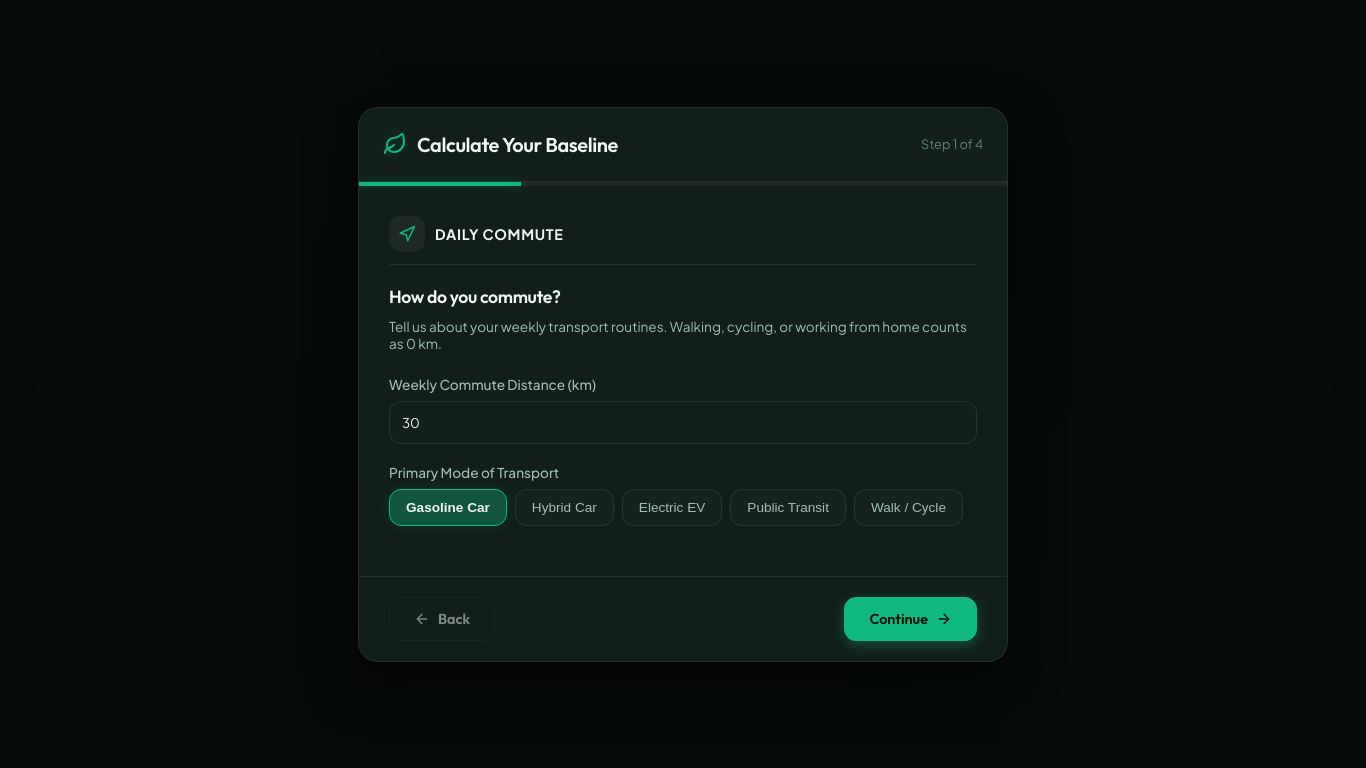
Test case: OnboardingWizard › navigates to step 2 when Continue is clicked
This screenshot has width=1366, height=768.
Click the button "Continue". click: [911, 618]
box: [844,596,977,640]
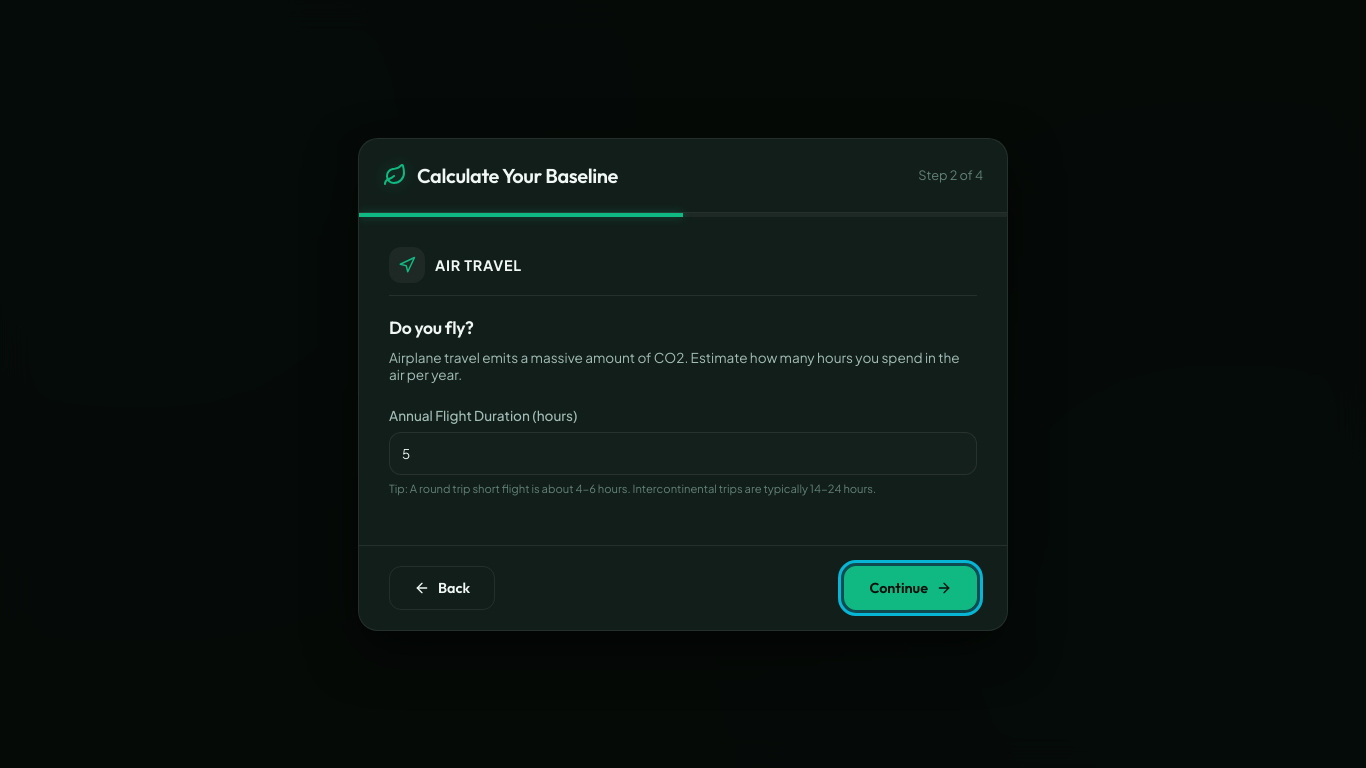
expect the text "Step 2 of 4" is shown: met, box [918,167,983,183]
expect the heading "Do you fly?" is shown: met, box [389,316,474,338]
